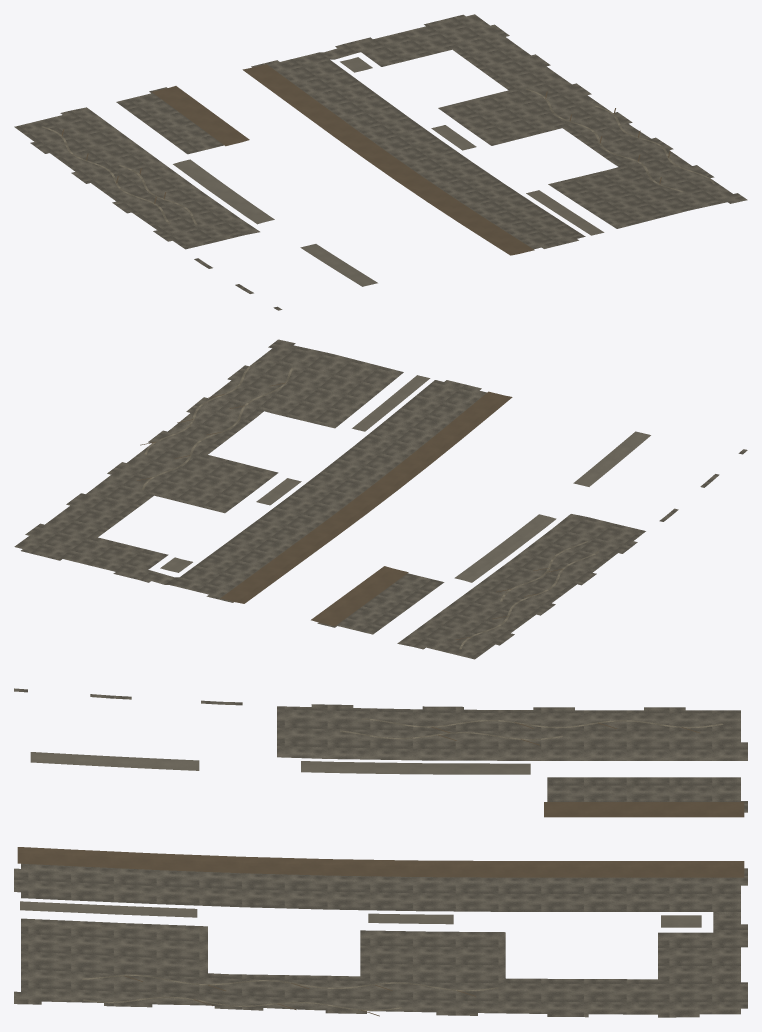
The model's file is SM_Caliche_Surface.fbx.
3 views of the same model, one above another, from view 1: azimuth 30°, elevation 25°; view 2: azimuth 150°, elevation 25°; view 3: azimuth 270°, elevation 25° (orthographic). The views are drawn at different scales.
Parts seen in each view (by area): view 1: SM_Caliche_Surface; view 2: SM_Caliche_Surface; view 3: SM_Caliche_Surface.
Part boxes in pixels (x1,y1,x2,y2): SM_Caliche_Surface: (14, 14, 747, 310); SM_Caliche_Surface: (14, 339, 747, 659); SM_Caliche_Surface: (14, 688, 747, 1017).
Size of the model in its own units: 69.2 by 68.7 by 2.09.
